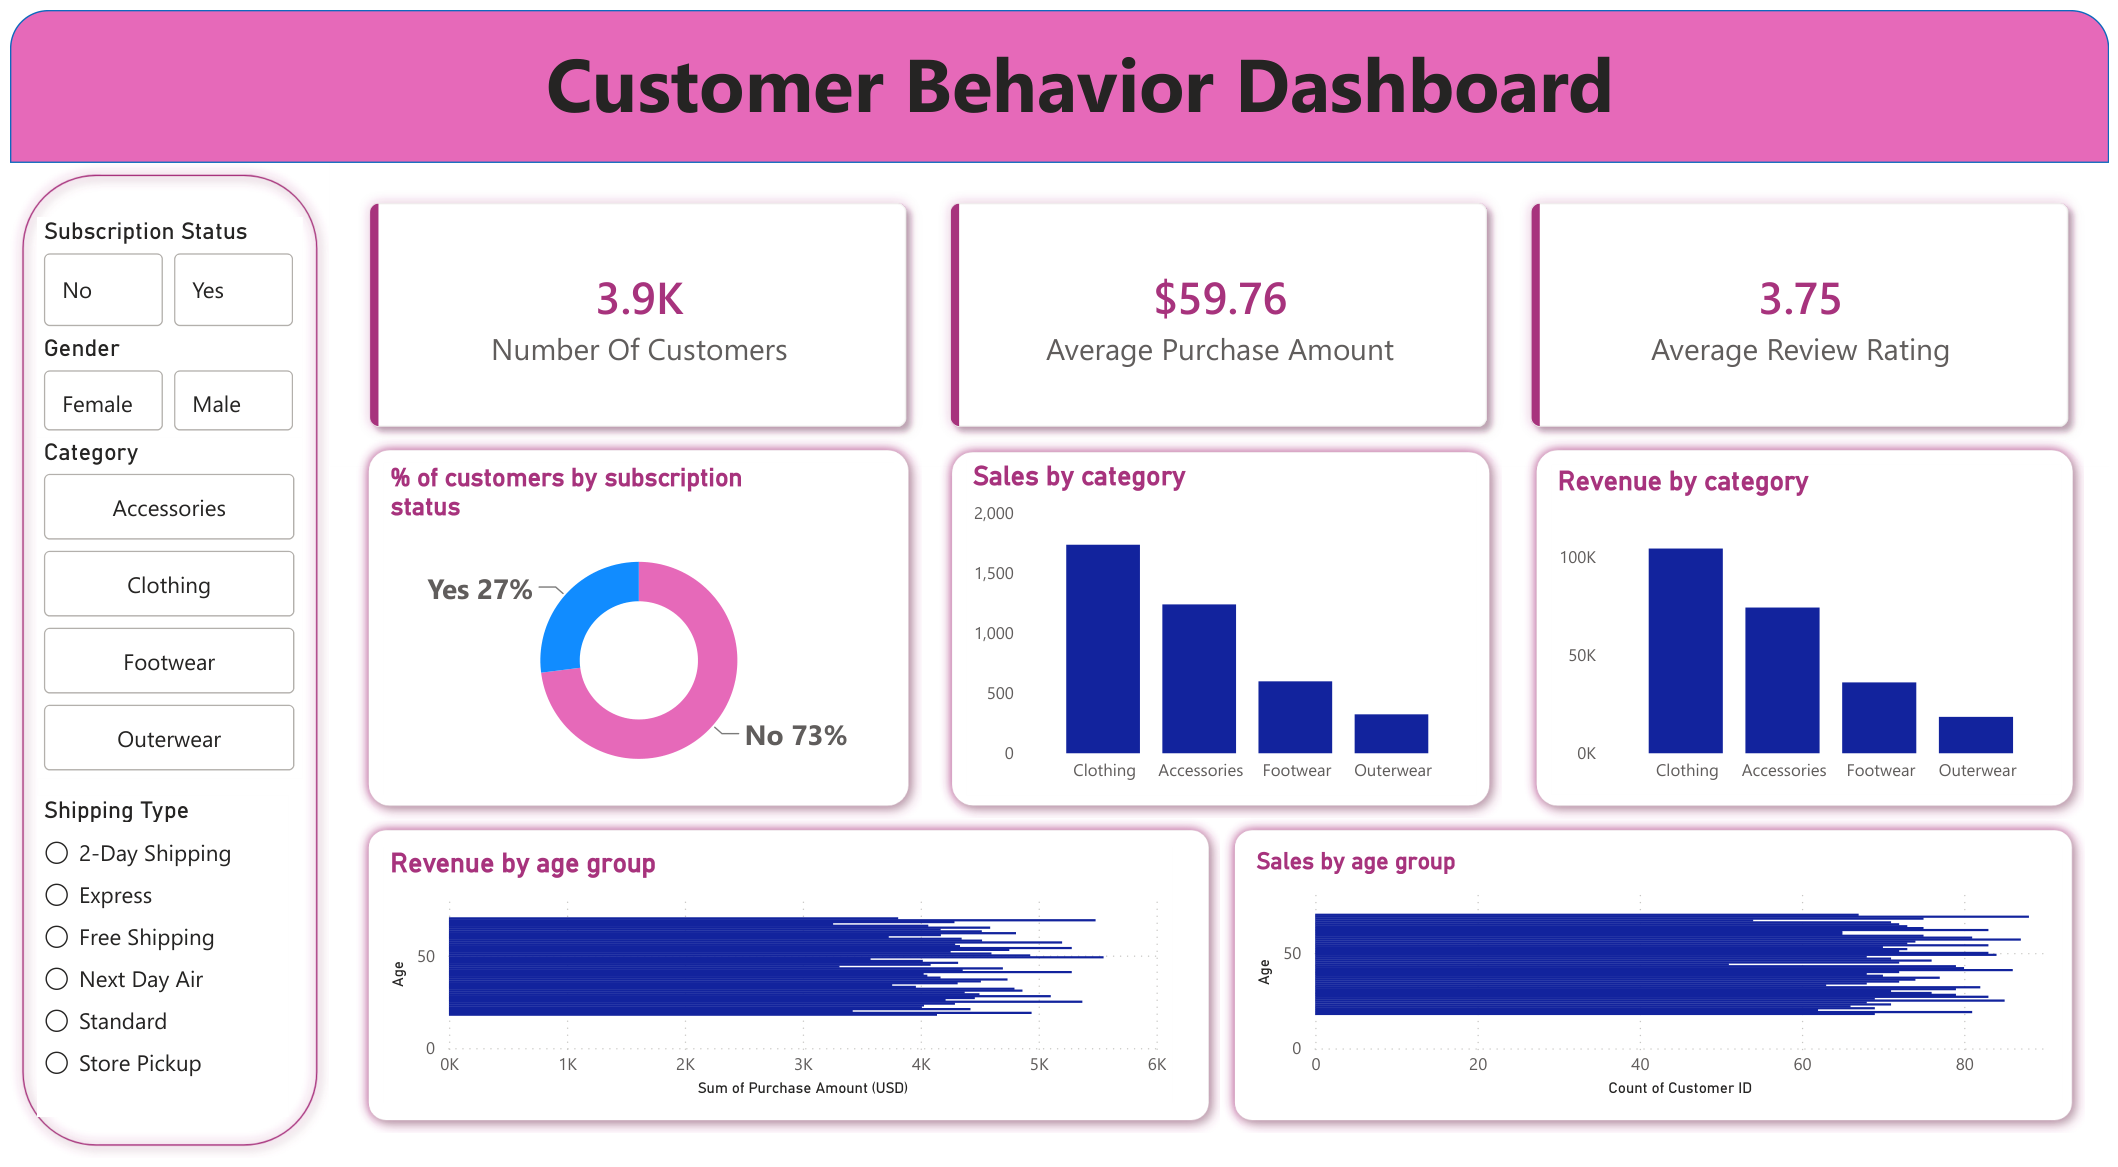

Layout of this report page (visuals, bound fields, positions):
{"tool":"powerbi","page":{"name":"Page 1","canvas":[1500,820],"ordinal":0},"visuals":[{"type":"actionButton","box":[0,0,100,40],"z":0},{"type":"cardVisual","fields":{"Data":["public customer.Number Of Customers","public customer.Average Purchase Amount","public customer.Average Review Rating"]},"box":[228.3,109.3,1272,217.1],"z":1000},{"type":"shape","box":[0,0,1500.3,109.3],"z":2000},{"type":"textbox","box":[0,9.6,1500.3,114.2],"z":3000},{"type":"shape","box":[247.6,305.5,403.6,271.8],"z":4000},{"type":"donutChart","title":"% of customers by  subscription status","fields":{"Category":["public customer.Subscription Status"],"Y":["CountNonNull(public customer.Customer ID)"]},"box":[266.9,323.2,365,238],"z":5000},{"type":"shape","box":[664.1,307.1,402,270.2],"z":6000},{"type":"shape","box":[1082.2,305.5,400.4,271.8],"z":7000},{"type":"clusteredColumnChart","title":"Revenue by category","fields":{"Category":["public customer.Category"],"Y":["Sum(public customer.Purchase Amount (USD))"]},"box":[1101.5,324.8,365,236.4],"z":8000},{"type":"clusteredColumnChart","title":"Sales by category","fields":{"Category":["public customer.Category"],"Y":["CountNonNull(public customer.Customer ID)"]},"box":[683.4,321.6,365,239.6],"z":9000},{"type":"shape","box":[0,109.3,228.3,710.8],"z":10000},{"type":"advancedSlicerVisual","fields":{"Values":["public customer.Subscription Status"]},"box":[19.3,147.9,189.8,83.6],"z":11000},{"type":"advancedSlicerVisual","fields":{"Values":["public customer.Gender"]},"box":[19.3,231.6,189.8,74],"z":12000},{"type":"advancedSlicerVisual","fields":{"Values":["public customer.Category"]},"box":[19.3,305.5,189.8,244.4],"z":13000},{"type":"listSlicer","fields":{"Values":["public customer.Shipping Type"]},"box":[19.3,561.2,180.1,230],"z":14000},{"type":"clusteredBarChart","fields":{"Y":["Sum(public customer.Purchase Amount (USD))"],"Category":["public customer.Age"]},"box":[266.9,598.2,564.4,183.3],"z":15000},{"type":"shape","box":[247.6,577.3,617.5,225.1],"z":16000},{"type":"shape","box":[866.7,577.3,615.9,225.1],"z":17000},{"type":"clusteredBarChart","title":"Revenue by age group","fields":{"Category":["public customer.Age"],"Y":["Sum(public customer.Purchase Amount (USD))"]},"box":[266.9,598.2,564.4,183.3],"z":18000},{"type":"clusteredBarChart","title":"Sales by age group","fields":{"Category":["public customer.Age"],"Y":["CountNonNull(public customer.Customer ID)"]},"box":[886,598.2,580.5,183.3],"z":19000}]}

Visuals, with their boxes in screenshot pixels (x1, y1, x2, y2), scaled from the page's 1500x820 canvas onto the 2118x1167 screenshot:
actionButton: pyautogui.locateOnScreen(0, 0, 141, 57)
cardVisual - public customer.Number Of Customers x public customer.Average Purchase Amount: pyautogui.locateOnScreen(322, 156, 2117, 465)
shape: pyautogui.locateOnScreen(0, 0, 2117, 156)
textbox: pyautogui.locateOnScreen(0, 14, 2117, 176)
shape: pyautogui.locateOnScreen(350, 435, 919, 822)
"% of customers by  subscription status" donutChart: pyautogui.locateOnScreen(377, 460, 892, 799)
shape: pyautogui.locateOnScreen(938, 437, 1505, 822)
shape: pyautogui.locateOnScreen(1528, 435, 2093, 822)
"Revenue by category" clusteredColumnChart: pyautogui.locateOnScreen(1555, 462, 2071, 799)
"Sales by category" clusteredColumnChart: pyautogui.locateOnScreen(965, 458, 1480, 799)
shape: pyautogui.locateOnScreen(0, 156, 322, 1166)
advancedSlicerVisual - public customer.Subscription Status: pyautogui.locateOnScreen(27, 210, 295, 329)
advancedSlicerVisual - public customer.Gender: pyautogui.locateOnScreen(27, 330, 295, 435)
advancedSlicerVisual - public customer.Category: pyautogui.locateOnScreen(27, 435, 295, 783)
listSlicer - public customer.Shipping Type: pyautogui.locateOnScreen(27, 799, 282, 1126)
clusteredBarChart - Sum(public customer.Purchase Amount (USD)) x public customer.Age: pyautogui.locateOnScreen(377, 851, 1174, 1112)
shape: pyautogui.locateOnScreen(350, 822, 1222, 1142)
shape: pyautogui.locateOnScreen(1224, 822, 2093, 1142)
"Revenue by age group" clusteredBarChart: pyautogui.locateOnScreen(377, 851, 1174, 1112)
"Sales by age group" clusteredBarChart: pyautogui.locateOnScreen(1251, 851, 2071, 1112)
